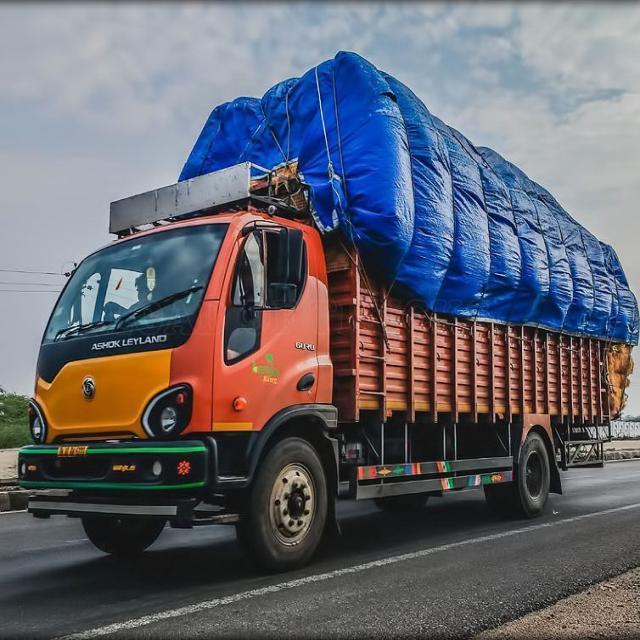Truck: (15, 160, 638, 573)
